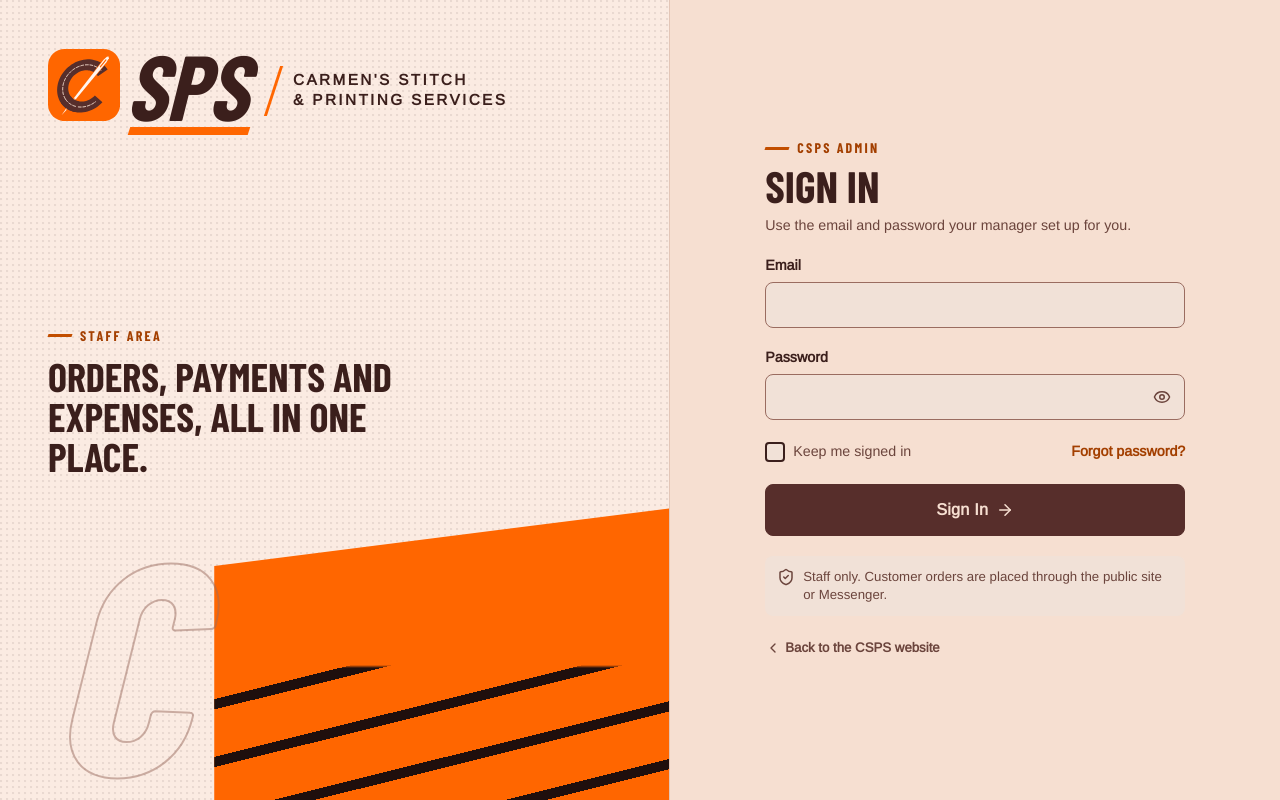
Test case: S1 client validation first (OR-3) › a password-only gap focuses the Password field
Type "paolo.garcia@gmail.com" into the field labelled "Email".
click(975, 305); type("paolo.garcia@gmail.com")  # box [766,283,1184,327]
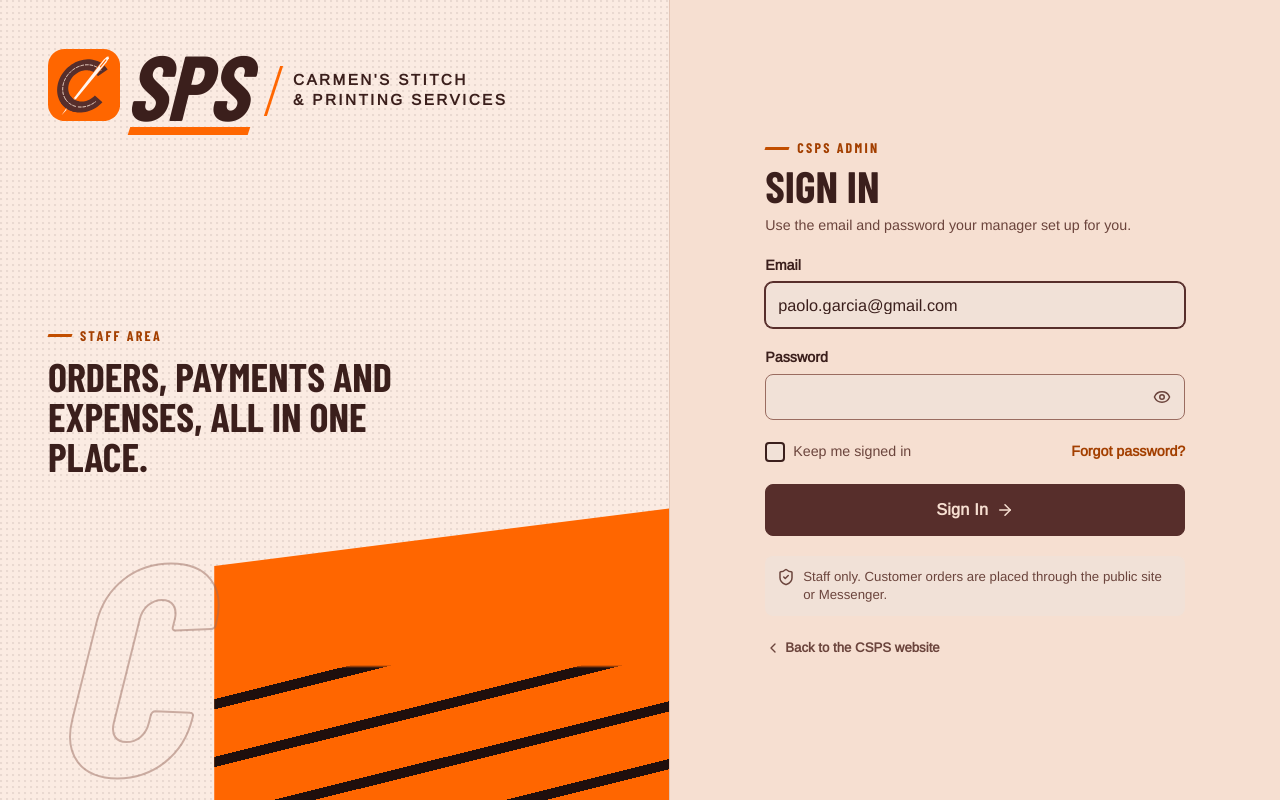
Click the button "Sign In".
click(975, 510)  # box [765,484,1185,536]
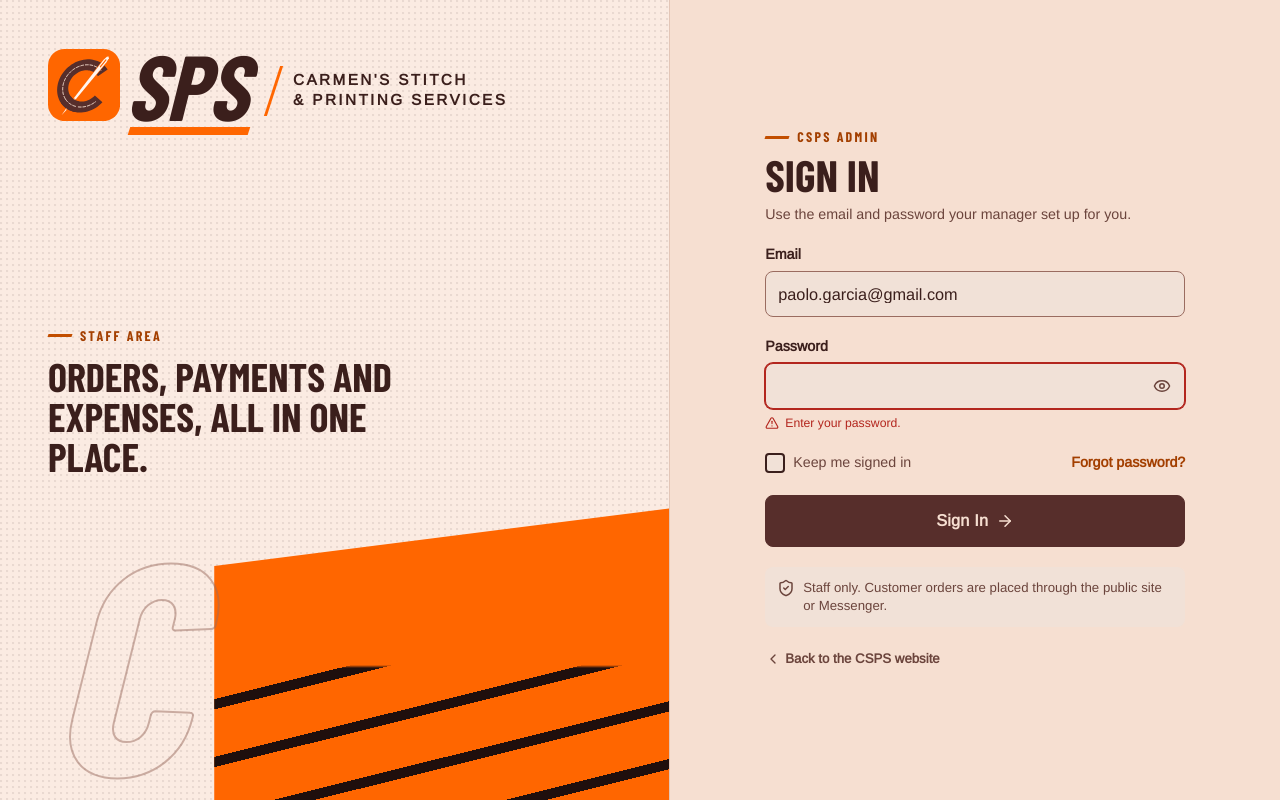
expect the text "Enter your password." is shown: met, box [765,416,901,430]
